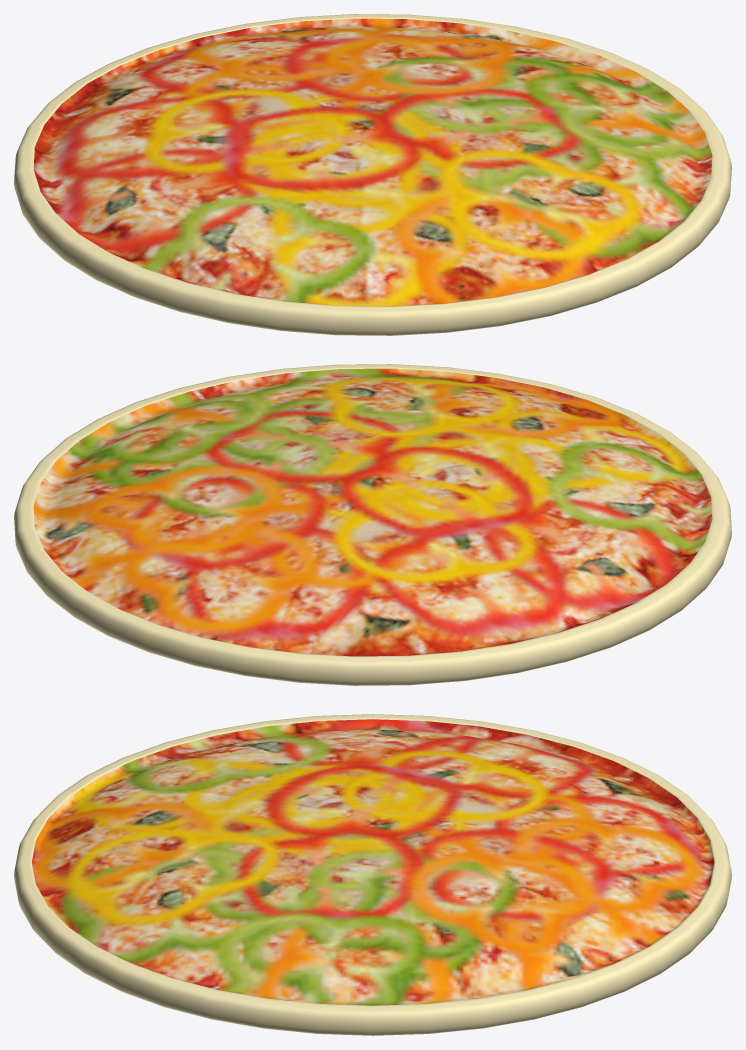
Rendered from pizzaPepper.gltf.
3 views of the same model, one above another, from view 1: azimuth 30°, elevation 25°; view 2: azimuth 150°, elevation 25°; view 3: azimuth 270°, elevation 25° (orthographic).
Size of the model in its own units: 0.6849 by 0.0628 by 0.6849.
Materials: 3 (1 with a texture image).
